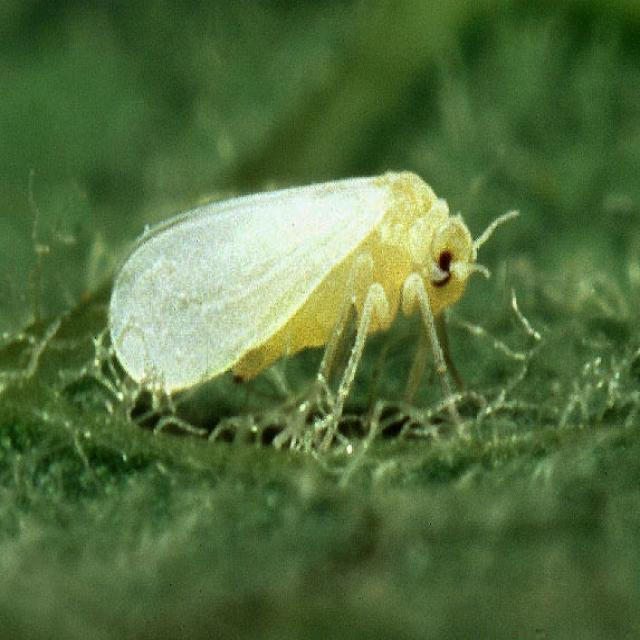Whitefly: (98, 160, 521, 462)
